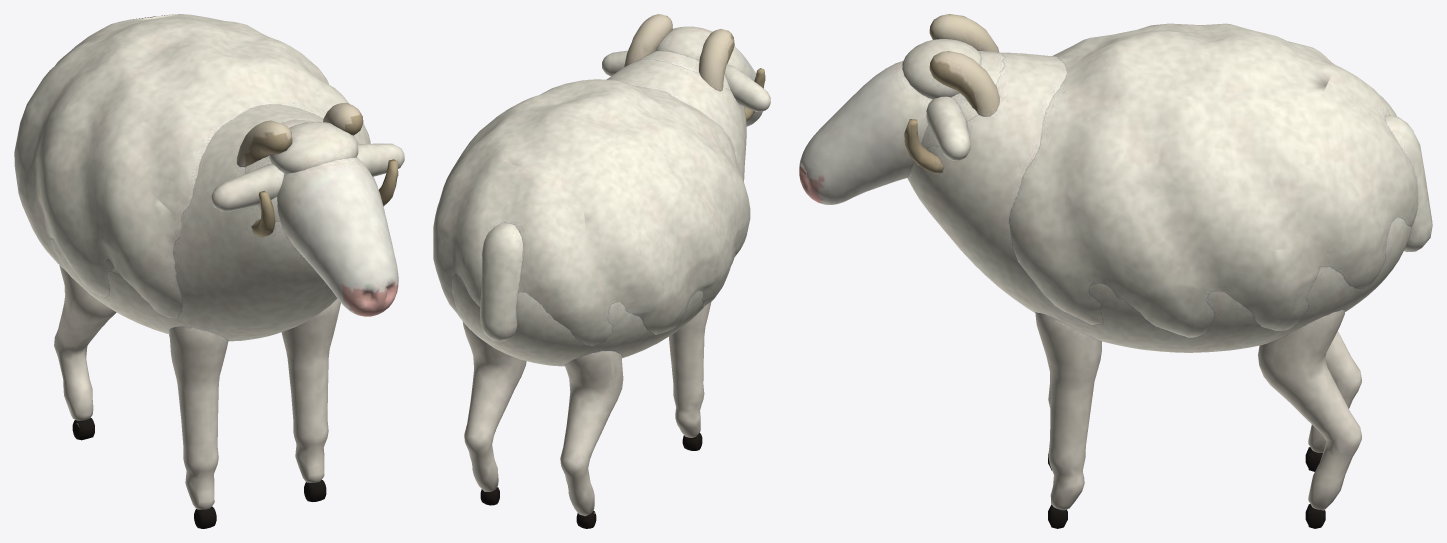
The model's file is animal_merino_sheep.glb.
3 renders of one model, left to right at view 1: azimuth 30°, elevation 25°; view 2: azimuth 150°, elevation 25°; view 3: azimuth 270°, elevation 25°, orthographic. The views are drawn at different scales.
Visible parts, largest first — view 1: animal_merino_sheep, head, leg0, leg1, leg2; view 2: animal_merino_sheep, head, leg2, leg3, tail, leg0; view 3: animal_merino_sheep, head, leg3, leg1, tail, leg2.
Part boxes in pixels (box(x1,y1,x2,y2)): animal_merino_sheep: box(14, 14, 377, 341); head: box(211, 103, 404, 316); leg0: box(169, 326, 228, 528); leg1: box(281, 298, 340, 501); leg2: box(54, 265, 116, 440); animal_merino_sheep: box(433, 51, 750, 366); head: box(602, 14, 770, 126); leg2: box(560, 351, 623, 528); leg3: box(462, 321, 526, 505); tail: box(480, 222, 523, 341); leg0: box(669, 302, 711, 450); animal_merino_sheep: box(907, 23, 1418, 352); head: box(799, 14, 999, 204); leg3: box(1258, 310, 1361, 528); leg1: box(1035, 312, 1101, 528); tail: box(1385, 115, 1432, 251); leg2: box(1305, 331, 1361, 471).
Size of the model in its own units: 0.2934 by 0.4184 by 0.5169.
1 material, 1 textured.
